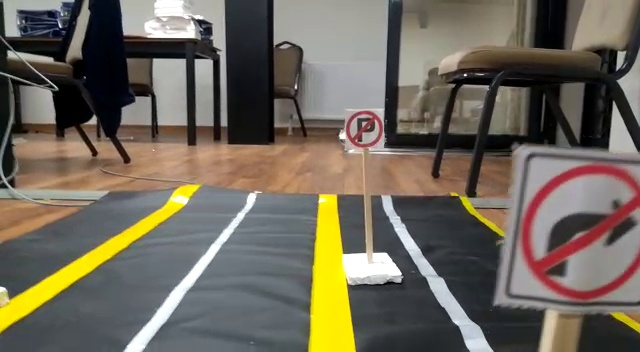park_yapilmaz: (343, 108, 386, 151)
saga_donulmez: (521, 157, 640, 304)
